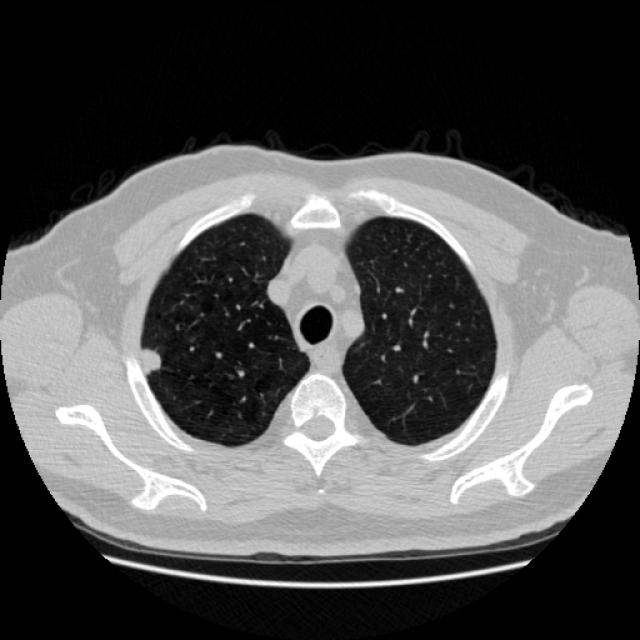nodule: (125, 334, 175, 384)
